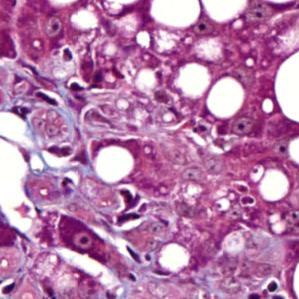steatosis: (92, 142, 136, 187), (208, 77, 246, 121), (156, 237, 191, 274)
